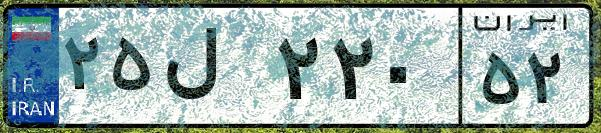0: (385, 28, 445, 110)
2: (270, 28, 330, 110), (330, 28, 385, 110), (57, 26, 110, 100), (525, 38, 570, 115)
5: (475, 38, 525, 113), (110, 28, 158, 98)
ل: (158, 20, 270, 120)
